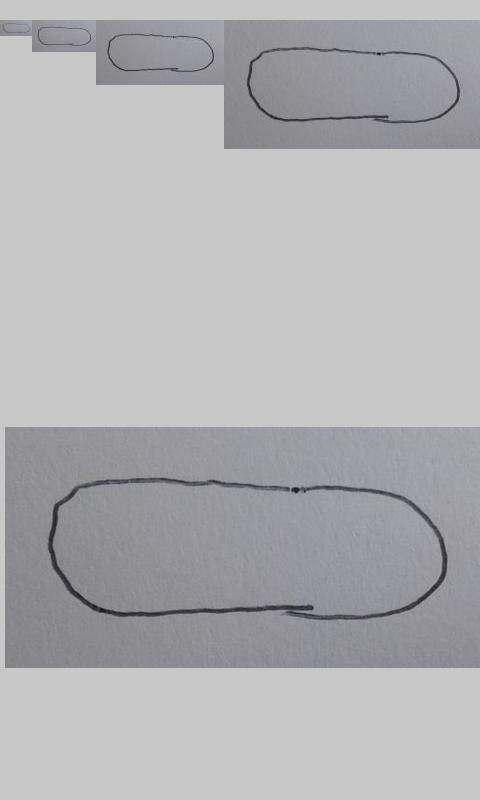chip: (47, 477, 448, 620), (247, 47, 461, 124), (107, 33, 215, 74), (38, 26, 92, 47), (2, 22, 32, 34)
